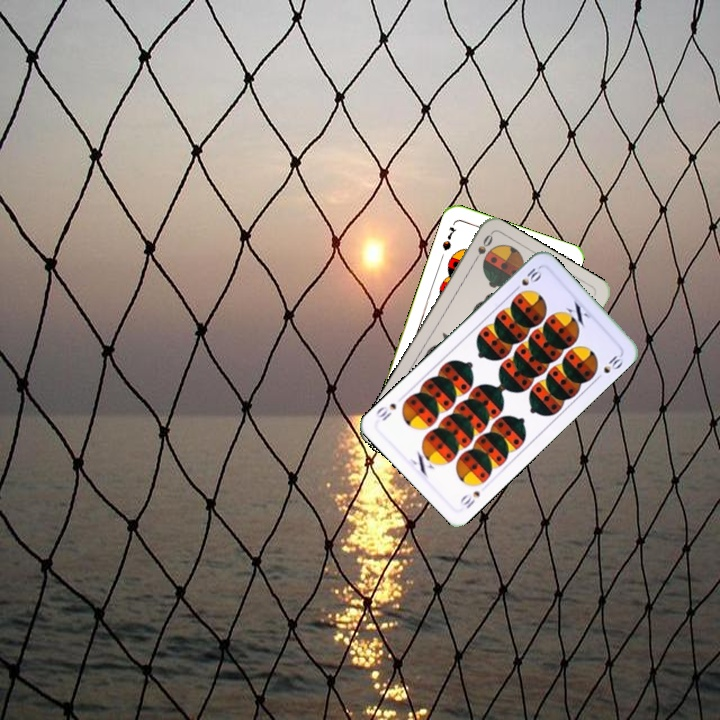S10: (509, 264, 544, 295), (456, 487, 483, 511)
S7: (438, 223, 459, 253)
SO: (468, 230, 495, 267)
